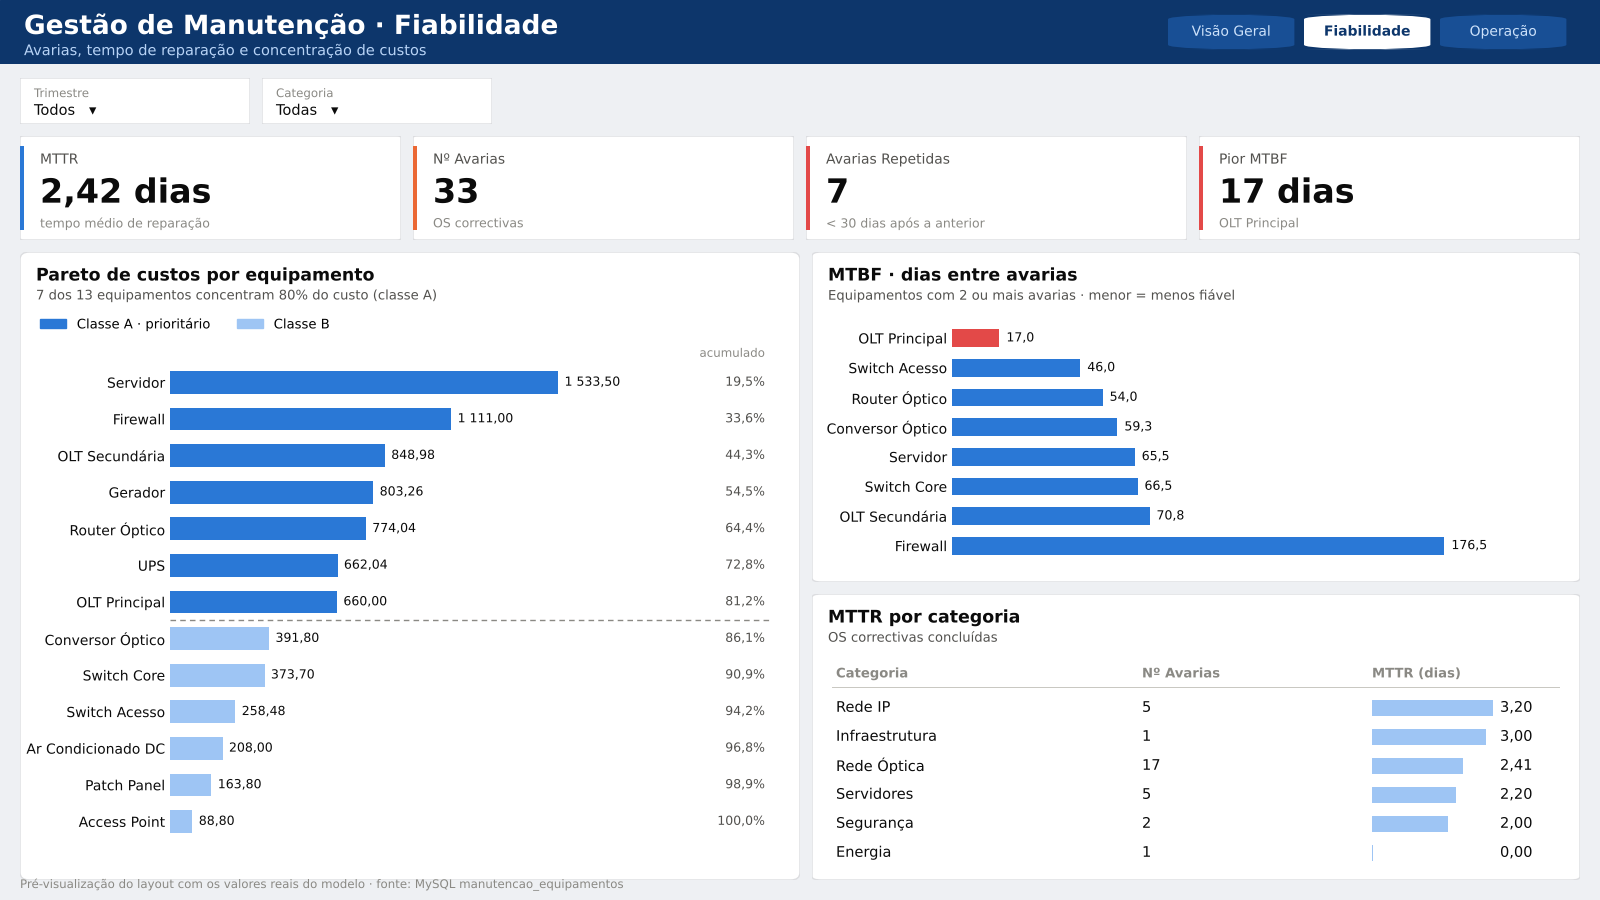

Layout of this report page (visuals, bound fields, positions):
{"tool":"powerbi","page":{"name":"Fiabilidade","canvas":[1280,720],"ordinal":1},"visuals":[{"type":"cardVisual","fields":{"Data":["_Medidas.MTTR (dias)","_Medidas.Nº Avarias","_Medidas.Avarias Repetidas (<30 dias)","_Medidas.MTBF (dias)"]},"box":[11.5,141.9,1261.8,78.9],"z":0},{"type":"slicer","fields":{"Values":["Calendario.Trimestre"]},"box":[11.5,69.8,216.7,61.5],"z":1000},{"type":"slicer","fields":{"Values":["Equipamentos.Categoria"]},"box":[228.1,69.8,216.7,61.5],"z":2000},{"type":"clusteredBarChart","title":"Pareto de custos por equipamento","fields":{"Category":["Equipamentos.Categoria"],"Y":["_Medidas.Custo Total"]},"box":[11.9,230.6,610.9,489.2],"z":4000},{"type":"textbox","box":[0,0,1280.2,60.4],"z":6000},{"type":"clusteredBarChart","title":"MTBF. dias entre avaria","fields":{"Category":["Equipamentos.Categoria"],"Y":["_Medidas.Pior MTBF (dias)"]},"box":[640,230.6,633.5,209],"z":6001},{"type":"tableEx","title":"MTTR por categoria","fields":{"Values":["Equipamentos.Categoria","_Medidas.Nº Avarias","_Medidas.MTTR (dias)"]},"box":[640,447.1,633.5,272.6],"z":6002}]}

Visuals, with their boxes in screenshot pixels (x1, y1, x2, y2), scaled from the page's 1280x720 canvas onto the 1600x900 screenshot:
cardVisual - _Medidas.MTTR (dias) x _Medidas.Nº Avarias: [left=14, top=177, right=1592, bottom=276]
slicer - Calendario.Trimestre: [left=14, top=87, right=285, bottom=164]
slicer - Equipamentos.Categoria: [left=285, top=87, right=556, bottom=164]
"Pareto de custos por equipamento" clusteredBarChart: [left=15, top=288, right=778, bottom=899]
textbox: [left=0, top=0, right=1599, bottom=76]
"MTBF. dias entre avaria" clusteredBarChart: [left=800, top=288, right=1592, bottom=550]
"MTTR por categoria" tableEx: [left=800, top=559, right=1592, bottom=899]
